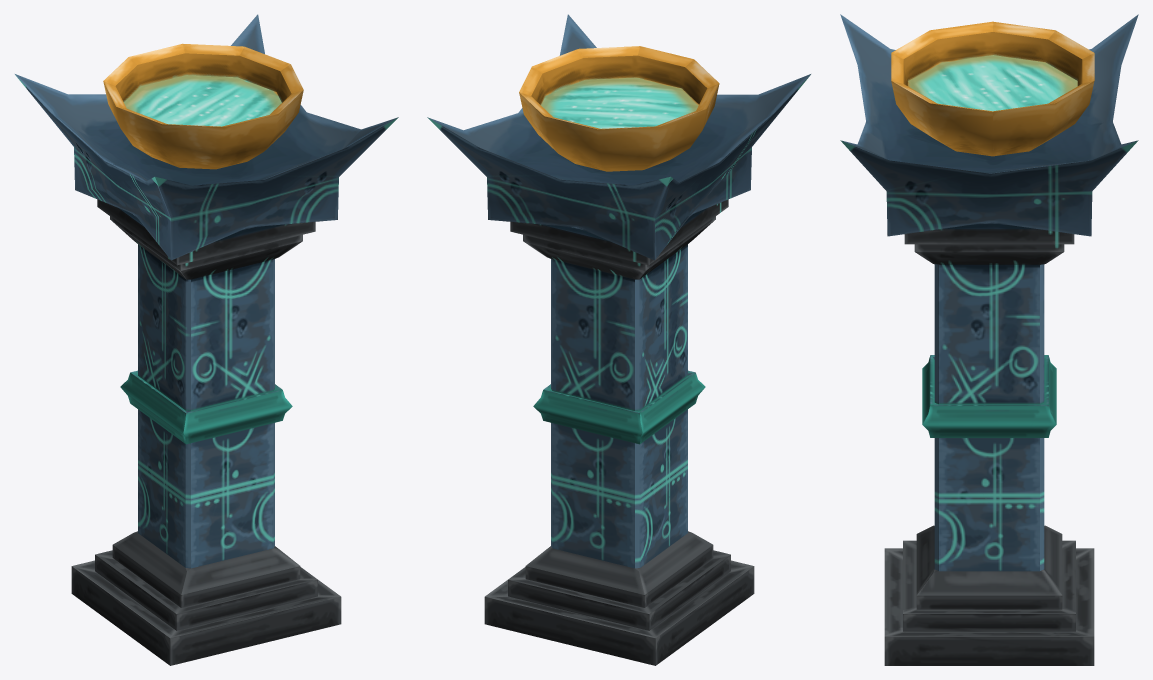
File: ManaPillar01.fbx
3 views of the same model, side by side, from view 1: azimuth 30°, elevation 25°; view 2: azimuth 150°, elevation 25°; view 3: azimuth 270°, elevation 25° (orthographic). The views are drawn at different scales.
Parts seen in each view (by area): view 1: polySurface1; view 2: polySurface1; view 3: polySurface1.
Boxes of the visible parts, left/top/right/bottom form: polySurface1: left=15, top=14, right=398, bottom=665; polySurface1: left=427, top=14, right=810, bottom=665; polySurface1: left=840, top=14, right=1138, bottom=665.
Size of the model in its own units: 1.26 by 2.58 by 1.26.
